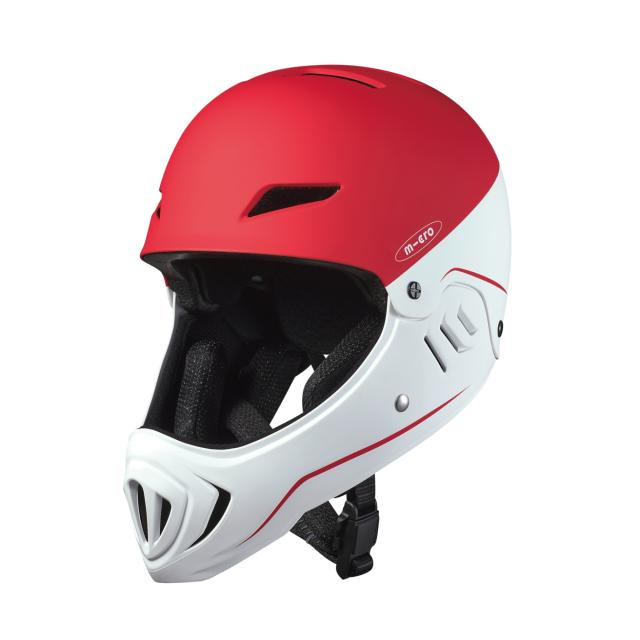Helmet: (82, 43, 524, 596)
